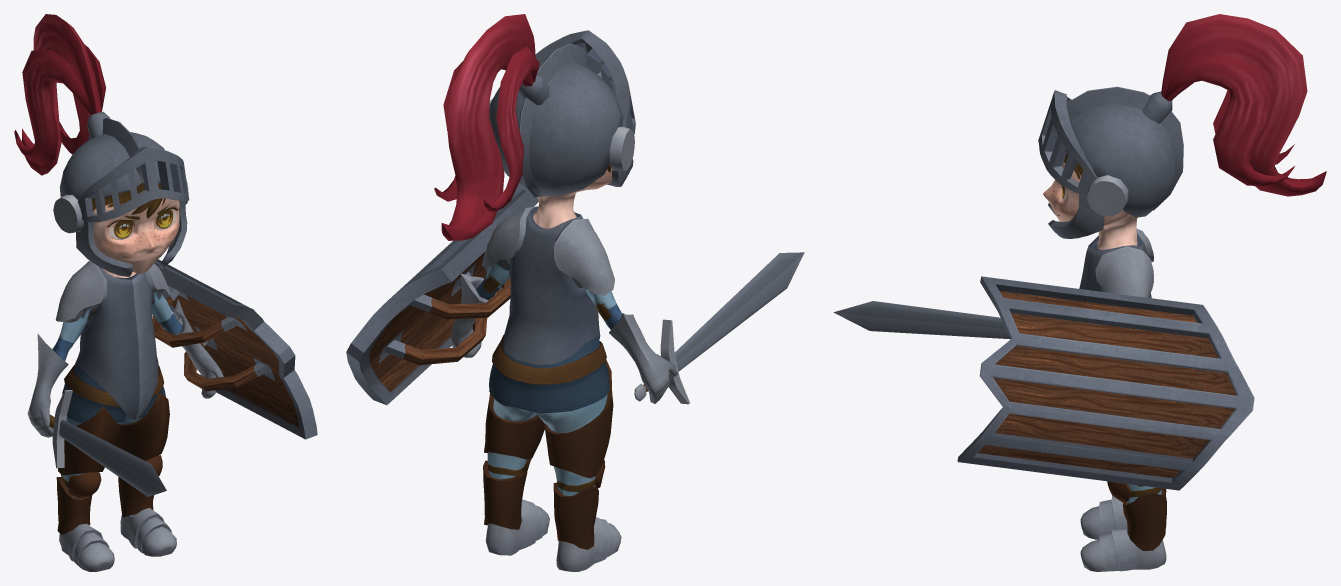
The model's file is GameCharacter.obj.
3 views of the same model, side by side, from view 1: azimuth 30°, elevation 25°; view 2: azimuth 150°, elevation 25°; view 3: azimuth 270°, elevation 25° (orthographic). The views are drawn at different scales.
Visible parts, largest first — view 1: Helmet, Sheild, Chestplate, Body, Arm1, Leg2, Sward, Leg1, Shoe2, Shoe1, Arm2, LeftEye; view 2: Helmet, Chestplate, Sheild, Body, Leg2, Arm1, Sward, Leg1, Arm2, Shoe2, Shoe1; view 3: Sheild, Helmet, Sward, Body, Shoe2, Leg1, Arm2, Shoe1, Chestplate.
Boxes of the visible parts, bbox=[...] form: Helmet: bbox=[14, 14, 189, 277]; Sheild: bbox=[152, 259, 317, 439]; Chestplate: bbox=[62, 267, 165, 423]; Body: bbox=[52, 182, 182, 497]; Arm1: bbox=[27, 261, 107, 437]; Leg2: bbox=[56, 406, 121, 534]; Sward: bbox=[49, 390, 166, 496]; Leg1: bbox=[115, 392, 169, 517]; Shoe2: bbox=[120, 508, 176, 556]; Shoe1: bbox=[59, 523, 114, 571]; Arm2: bbox=[145, 263, 223, 398]; LeftEye: bbox=[109, 220, 133, 239]; Helmet: bbox=[434, 14, 635, 240]; Chestplate: bbox=[489, 206, 609, 413]; Sheild: bbox=[346, 185, 538, 405]; Body: bbox=[476, 164, 622, 495]; Leg2: bbox=[544, 359, 613, 549]; Arm1: bbox=[554, 218, 677, 403]; Sward: bbox=[634, 252, 804, 404]; Leg1: bbox=[483, 393, 544, 529]; Arm2: bbox=[449, 206, 537, 357]; Shoe2: bbox=[485, 499, 549, 555]; Shoe1: bbox=[556, 517, 621, 571]; Sheild: bbox=[957, 276, 1254, 490]; Helmet: bbox=[1038, 14, 1326, 238]; Sward: bbox=[833, 301, 1010, 339]; Body: bbox=[1043, 153, 1161, 503]; Shoe2: bbox=[1080, 528, 1166, 571]; Leg1: bbox=[1107, 481, 1166, 550]; Arm2: bbox=[1095, 246, 1153, 297]; Shoe1: bbox=[1080, 495, 1166, 539]; Chestplate: bbox=[1079, 233, 1151, 298].
Bounding box in the file's own units: 4.16 × 8.8 × 7.38.
